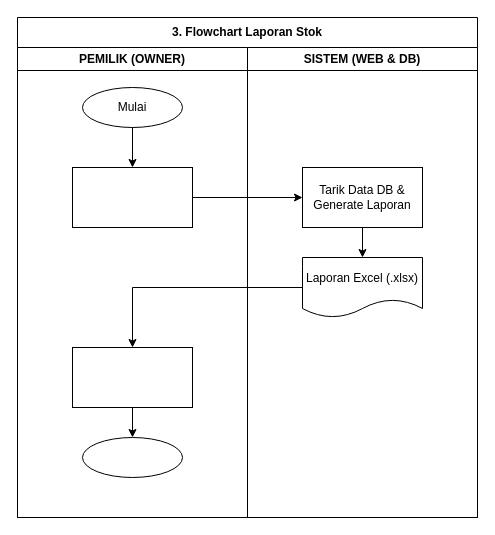
Image size: 495x535. Some labels were removed from this diagram. The centre of each missing label's shape, as x and y in pixels:
"Buka Dasbor & Klik Export Laporan" belongs at pixel 132 197.
"Selesai" belongs at pixel 132 457.
"Unduh File Laporan" belongs at pixel 132 377.
